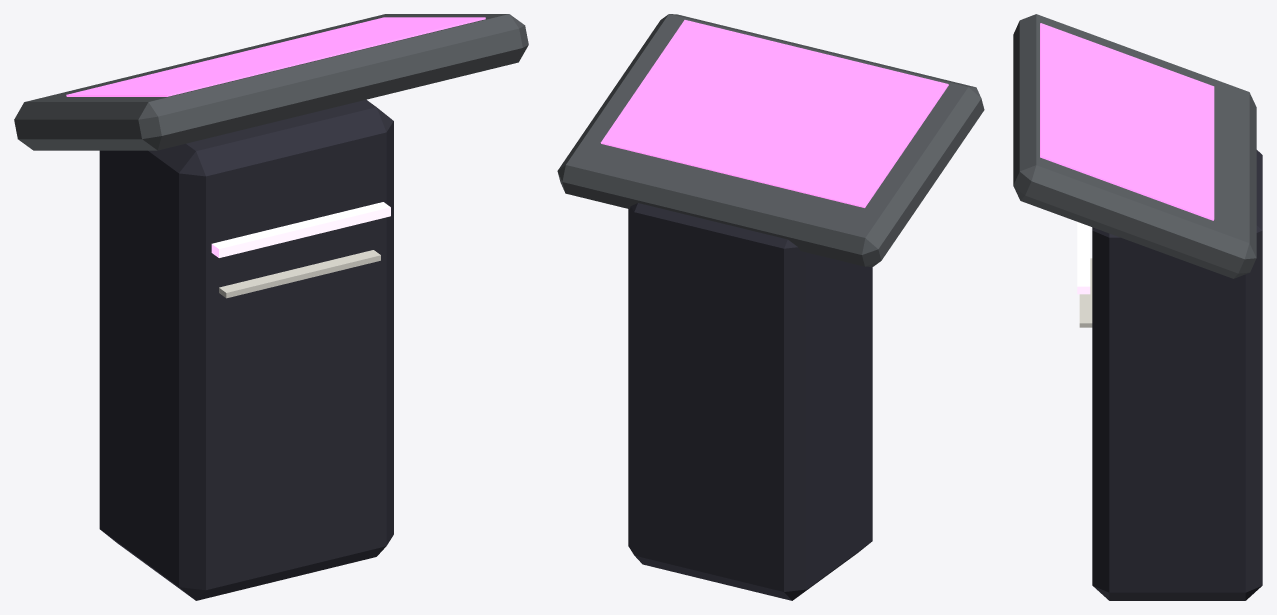
Rendered from an_lectern.glb.
The picture shows the model from 3 angles, left to right: view 1: azimuth 30°, elevation 25°; view 2: azimuth 150°, elevation 25°; view 3: azimuth 270°, elevation 25°; orthographic projection. The views are drawn at different scales.
Parts seen in each view (by area): view 1: an_lectern; view 2: an_lectern; view 3: an_lectern.
Part boxes in pixels (left/top/right/bottom): an_lectern: left=14, top=14, right=528, bottom=600; an_lectern: left=557, top=14, right=984, bottom=600; an_lectern: left=1013, top=14, right=1262, bottom=600.
Size of the model in its own units: 0.9 by 1.23 by 0.5856.
